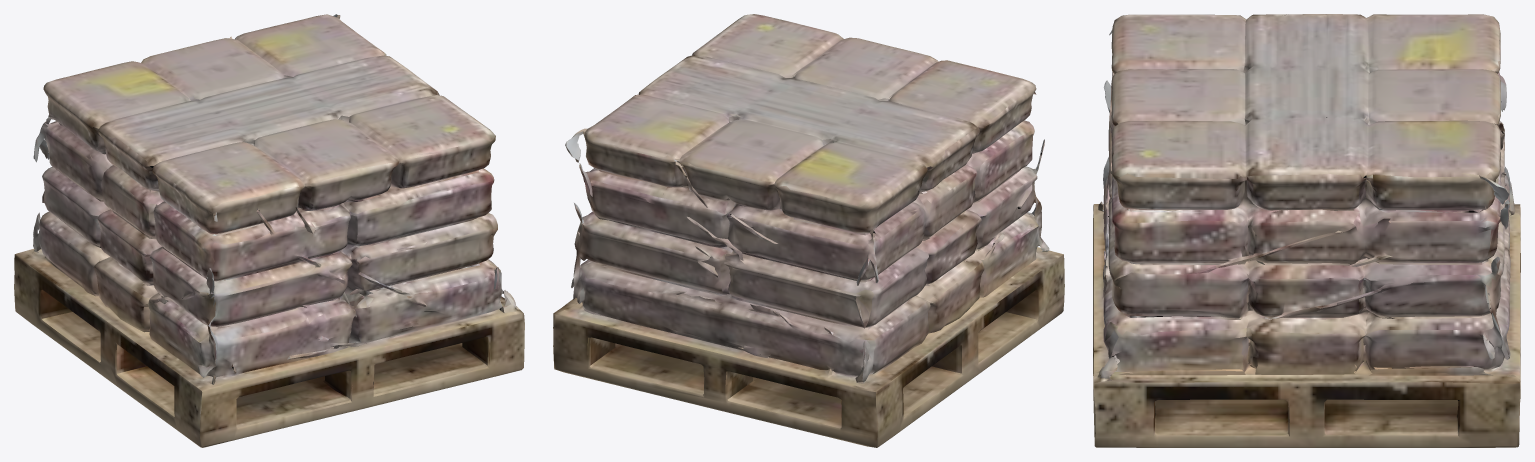
Rendered from pallet-cartons.glb.
The picture shows the model from 3 angles, left to right: view 1: azimuth 30°, elevation 25°; view 2: azimuth 150°, elevation 25°; view 3: azimuth 270°, elevation 25°; orthographic projection. The views are drawn at different scales.
Parts seen in each view (by area): view 1: cowninja-pallet-cartons; view 2: cowninja-pallet-cartons; view 3: cowninja-pallet-cartons.
Boxes of the visible parts, bbox=[...] form: cowninja-pallet-cartons: bbox=[14, 14, 524, 447]; cowninja-pallet-cartons: bbox=[553, 14, 1064, 447]; cowninja-pallet-cartons: bbox=[1093, 14, 1520, 447].
Size of the model in its own units: 1.2 by 0.83 by 1.2.
1 material, 1 textured.
